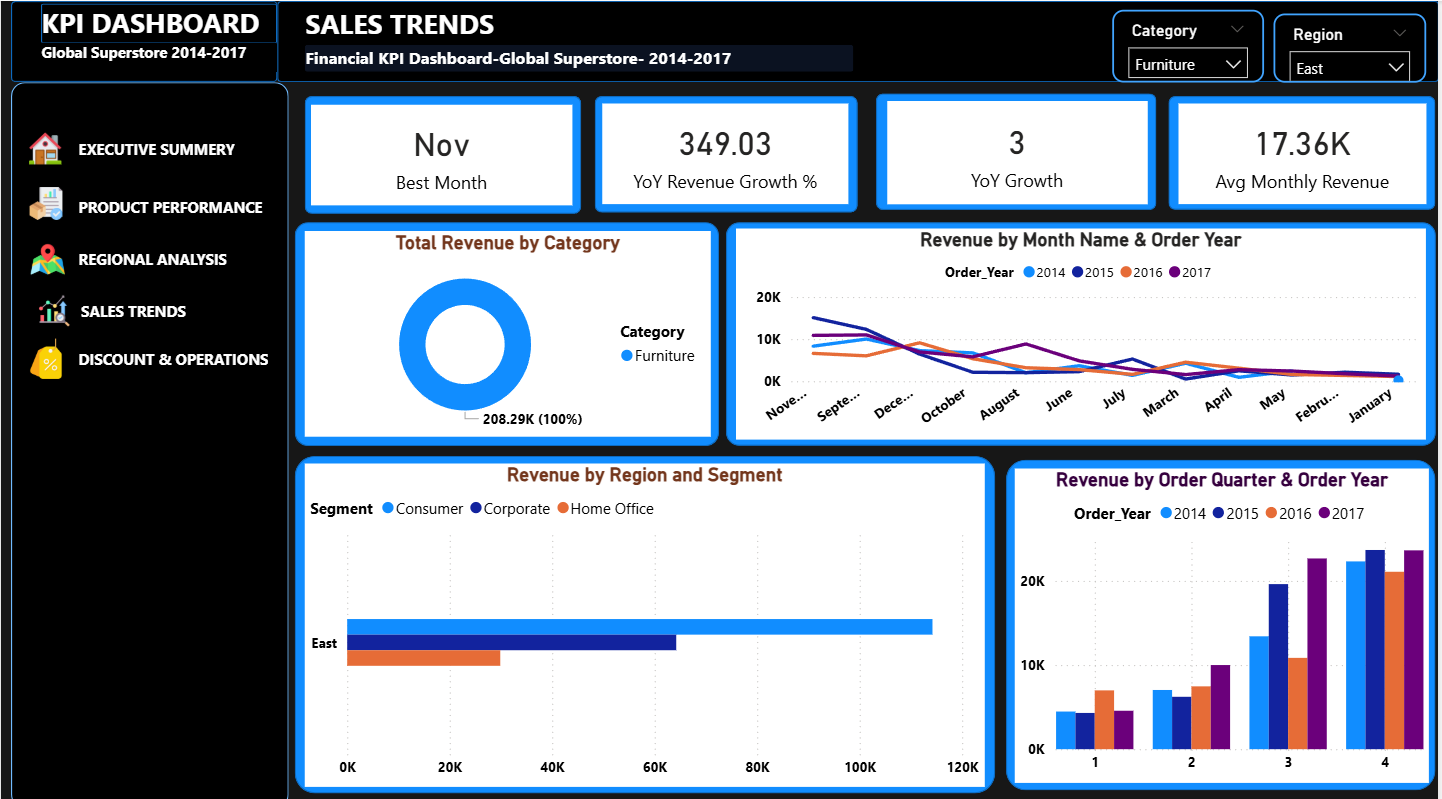

What the dashboard file says about the page in this screenshot:
{"tool":"powerbi","page":{"name":"Sales Trend","canvas":[1280,720],"ordinal":3},"visuals":[{"type":"shape","box":[8.6,0,237.2,72.1],"z":0},{"type":"shape","box":[8.4,72.4,247.3,646.7],"z":1000},{"type":"shape","box":[245.8,0,1034.5,72.1],"z":2000},{"type":"shape","box":[270.2,84.5,246.1,105],"z":3000},{"type":"shape","box":[528.4,84.5,234,103.8],"z":4000},{"type":"shape","box":[779.4,82,249.7,103.8],"z":5000},{"type":"shape","box":[1040,84.5,237.7,101.3],"z":6000},{"type":"shape","box":[261.8,405.4,623.7,300.4],"z":7000},{"type":"shape","box":[895.2,409,382.4,294.4],"z":8000},{"type":"shape","box":[645.4,196.6,632.2,199.1],"z":9000},{"type":"shape","box":[261.7,196.9,377.9,199.3],"z":10000},{"type":"lineChart","title":"Revenue by Month Name & Order Year","fields":{"Category":["superstore_clean.Month_Name"],"Y":["superstore_clean.Total Revenue"],"Series":["superstore_clean.Order_Year"]},"box":[655.1,202.7,614.1,188.2],"z":11000},{"type":"clusteredColumnChart","title":" Revenue by Order Quarter & Order Year","fields":{"Category":["superstore_clean.Order_Quarter"],"Y":["superstore_clean.Total Revenue"],"Series":["superstore_clean.Order_Year"]},"box":[902.4,416.2,369.2,279.9],"z":12000},{"type":"card","fields":{"Values":["DateTable.Avg Monthly Revenue"]},"box":[1048.4,91.7,220.8,89.3],"z":13000},{"type":"card","fields":{"Values":["DateTable.YoY Revenue Growth %"]},"box":[535.7,91.7,219.6,89.3],"z":14000},{"type":"card","fields":{"Values":["DateTable.Best Month"]},"box":[276.3,92.9,232.8,89.3],"z":15000},{"type":"card","fields":{"Values":["DateTable.YoY Growth"]},"box":[789,89.3,231.6,91.7],"z":16000},{"type":"donutChart","fields":{"Category":["superstore_clean.Category"],"Y":["superstore_clean.Total Revenue"]},"box":[270.2,205.1,361.9,183.4],"z":17000},{"type":"clusteredBarChart","title":"Revenue by Region and Segment","fields":{"Y":["superstore_clean.Total Revenue"],"Category":["superstore_clean.Region"],"Series":["superstore_clean.Segment"]},"box":[270.2,411.4,605.6,288.3],"z":18000},{"type":"shape","box":[270.2,3.6,435.5,35],"z":19000},{"type":"shape","box":[35.5,2.4,210.3,35.5],"z":20000},{"type":"shape","box":[35.5,36.7,210.3,26.9],"z":21000},{"type":"shape","box":[68.8,109.8,190.6,43.4],"z":22000},{"type":"shape","box":[68.8,161.7,190.6,43.4],"z":23000},{"type":"shape","box":[68.8,208.7,190.6,43.4],"z":24000},{"type":"shape","box":[71.2,253.4,199.1,44.6],"z":25000},{"type":"shape","box":[68.8,296.8,190.6,43.4],"z":26000},{"type":"image","box":[18.1,117,43.4,29],"z":27000},{"type":"image","box":[24.1,165.3,31.4,31.4],"z":28000},{"type":"image","box":[20.5,214.7,43.4,30.2],"z":29000},{"type":"image","box":[26.5,261.8,42.2,29],"z":30000},{"type":"image","box":[20.5,300.4,39.8,36.2],"z":31000},{"type":"shape","box":[270.2,38.6,488.6,24.1],"z":32000},{"type":"slicer","fields":{"Values":["superstore_clean.Region"]},"box":[1132.8,10.9,136.3,61.5],"z":32002},{"type":"slicer","fields":{"Values":["superstore_clean.Category"]},"box":[989.3,7.2,135.1,65.1],"z":32003}]}

Visuals, with their boxes in screenshot pixels (x1, y1, x2, y2), scaled from the page's 1280x720 canvas onto the 1442x799 screenshot:
shape: box(10, 0, 277, 80)
shape: box(9, 80, 288, 798)
shape: box(277, 0, 1441, 80)
shape: box(304, 94, 582, 210)
shape: box(595, 94, 859, 209)
shape: box(878, 91, 1159, 206)
shape: box(1172, 94, 1439, 206)
shape: box(295, 450, 998, 783)
shape: box(1008, 454, 1439, 781)
shape: box(727, 218, 1439, 439)
shape: box(295, 219, 721, 440)
"Revenue by Month Name & Order Year" lineChart: box(738, 225, 1430, 434)
" Revenue by Order Quarter & Order Year" clusteredColumnChart: box(1017, 462, 1433, 772)
card - DateTable.Avg Monthly Revenue: box(1181, 102, 1430, 201)
card - DateTable.YoY Revenue Growth %: box(603, 102, 851, 201)
card - DateTable.Best Month: box(311, 103, 574, 202)
card - DateTable.YoY Growth: box(889, 99, 1150, 201)
donutChart - superstore_clean.Category x superstore_clean.Total Revenue: box(304, 228, 712, 431)
"Revenue by Region and Segment" clusteredBarChart: box(304, 457, 987, 776)
shape: box(304, 4, 795, 43)
shape: box(40, 3, 277, 42)
shape: box(40, 41, 277, 71)
shape: box(78, 122, 292, 170)
shape: box(78, 179, 292, 228)
shape: box(78, 232, 292, 280)
shape: box(80, 281, 305, 331)
shape: box(78, 329, 292, 378)
image: box(20, 130, 69, 162)
image: box(27, 183, 63, 218)
image: box(23, 238, 72, 272)
image: box(30, 291, 77, 323)
image: box(23, 333, 68, 374)
shape: box(304, 43, 855, 70)
slicer - superstore_clean.Region: box(1276, 12, 1430, 80)
slicer - superstore_clean.Category: box(1115, 8, 1267, 80)
